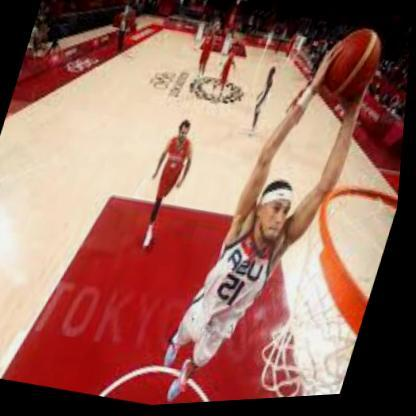basketball: (319, 28, 390, 111)
rim: (286, 179, 403, 348)
